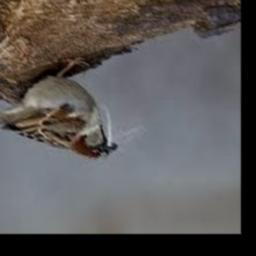Sparrow: (0, 58, 118, 162)
